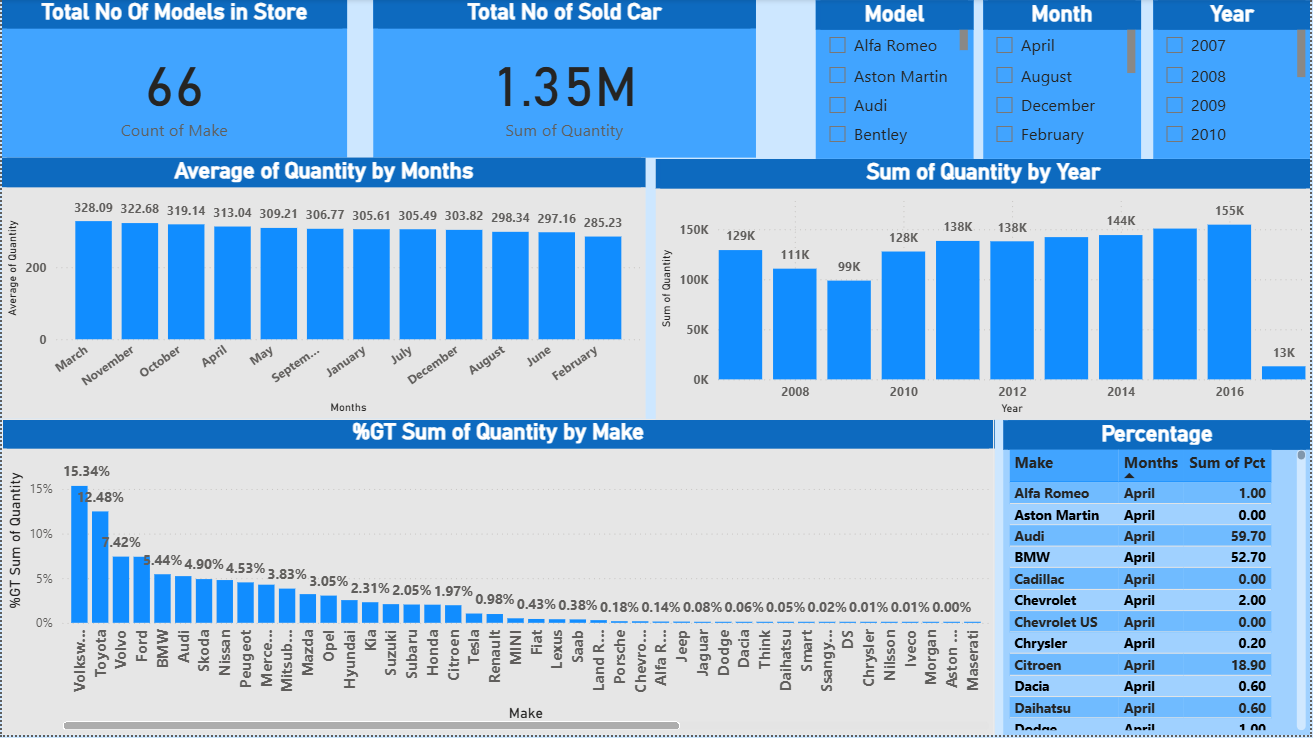

Layout of this report page (visuals, bound fields, positions):
{"tool":"powerbi","page":{"name":"Page 1","canvas":[1280,720],"ordinal":0},"visuals":[{"type":"clusteredColumnChart","fields":{"Category":["norway_new_car_sales_by_make (2).Make"],"Y":["Sum(norway_new_car_sales_by_make (2).Quantity)"]},"box":[0,410.9,629.8,309.4],"z":1000},{"type":"card","title":"Total No Of Models in Store","fields":{"Values":["Count(norway_new_car_sales_by_make (2).Make)"]},"box":[0,0,337.5,155.3],"z":2000},{"type":"card","title":"Total No of Sold Car","fields":{"Values":["Sum(norway_new_car_sales_by_make (2).Quantity)"]},"box":[363.2,0,374.2,155.3],"z":3000},{"type":"clusteredColumnChart","fields":{"Category":["norway_new_car_sales_by_make (2).Months"],"Y":["Avg(norway_new_car_sales_by_make (2).Quantity)"]},"box":[0,155.3,629.8,255.6],"z":4000},{"type":"clusteredColumnChart","fields":{"Y":["Sum(norway_new_car_sales_by_make (2).Quantity)"],"Category":["norway_new_car_sales_by_make (2).Year"]},"box":[639.5,464.7,640.8,255.6],"z":5000},{"type":"slicer","title":"Year","fields":{"Values":["norway_new_car_sales_by_make (2).Year"]},"box":[764.3,0,154.1,155.3],"z":6000},{"type":"tableEx","title":"Percentage","fields":{"Values":["norway_new_car_sales_by_make (2).Make","norway_new_car_sales_by_make (2).Months","Sum(norway_new_car_sales_by_make (2).Pct)"]},"box":[639.5,156.5,278.8,308.2],"z":7000}]}

Visuals, with their boxes in screenshot pixels (x1, y1, x2, y2), scaled from the page's 1280x720 canvas onto the 1313x738 screenshot:
clusteredColumnChart - norway_new_car_sales_by_make (2).Make x Sum(norway_new_car_sales_by_make (2).Quantity): <box>0,421,646,737</box>
"Total No Of Models in Store" card: <box>0,0,346,159</box>
"Total No of Sold Car" card: <box>373,0,756,159</box>
clusteredColumnChart - norway_new_car_sales_by_make (2).Months x Avg(norway_new_car_sales_by_make (2).Quantity): <box>0,159,646,421</box>
clusteredColumnChart - Sum(norway_new_car_sales_by_make (2).Quantity) x norway_new_car_sales_by_make (2).Year: <box>656,476,1312,737</box>
"Year" slicer: <box>784,0,942,159</box>
"Percentage" tableEx: <box>656,160,942,476</box>
